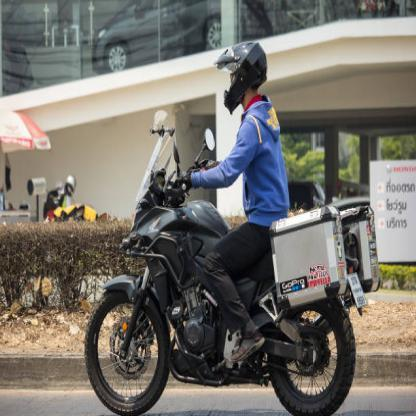Motorcycle: (79, 140, 367, 415)
